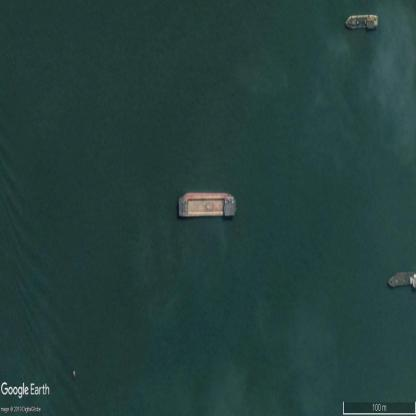ship: (346, 14, 378, 30), (388, 270, 415, 288)
